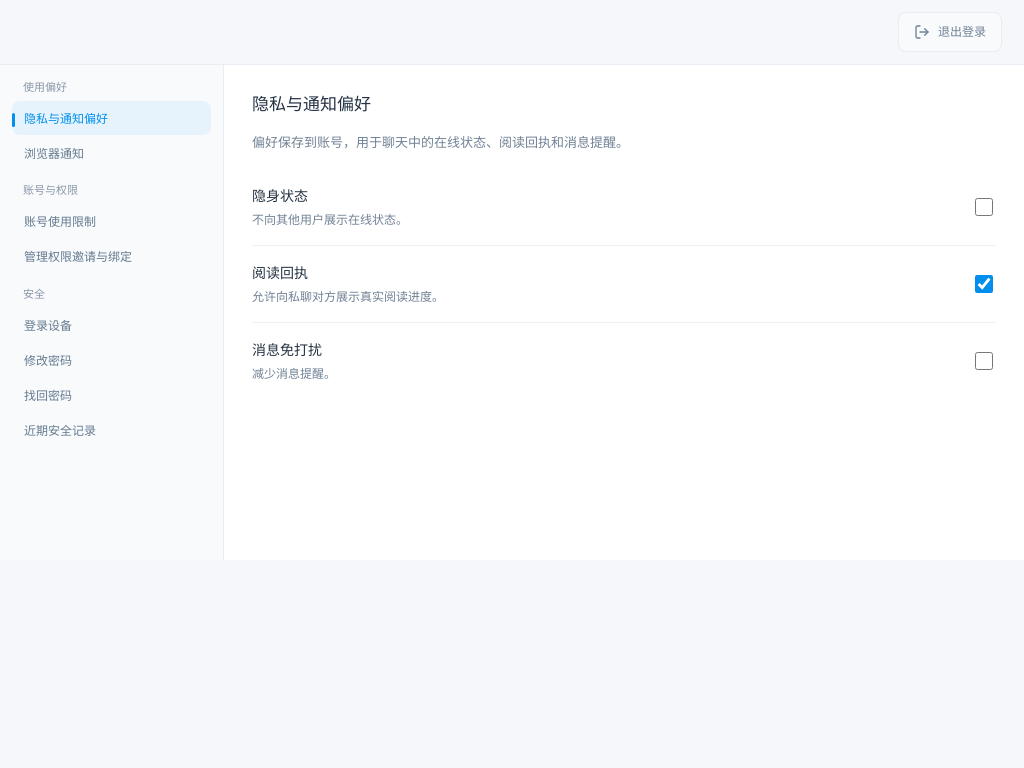
Test: settings grouped navigation › locks navigation until a real preference request finishes and preserves its server result
Step 1. Click the checkbox labelled "隐身状态 不向其他用户展示在线状态。" → point(984, 207), box [975,198,993,216]
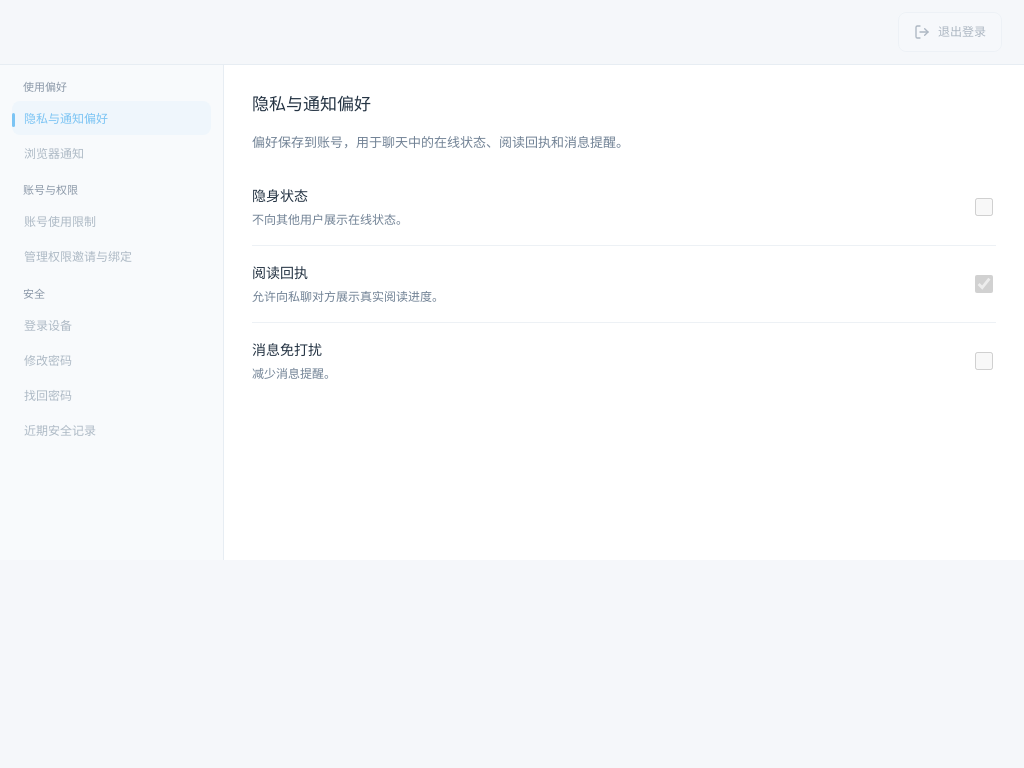
Now the tab "隐私与通知偏好" is disabled, box [12,101,211,135]
Now the tab "浏览器通知" is disabled, box [12,136,211,170]
Now the tab "账号使用限制" is disabled, box [12,205,211,239]
Step 2. Click the tab "修改密码" → point(112, 361), box [12,344,211,378]
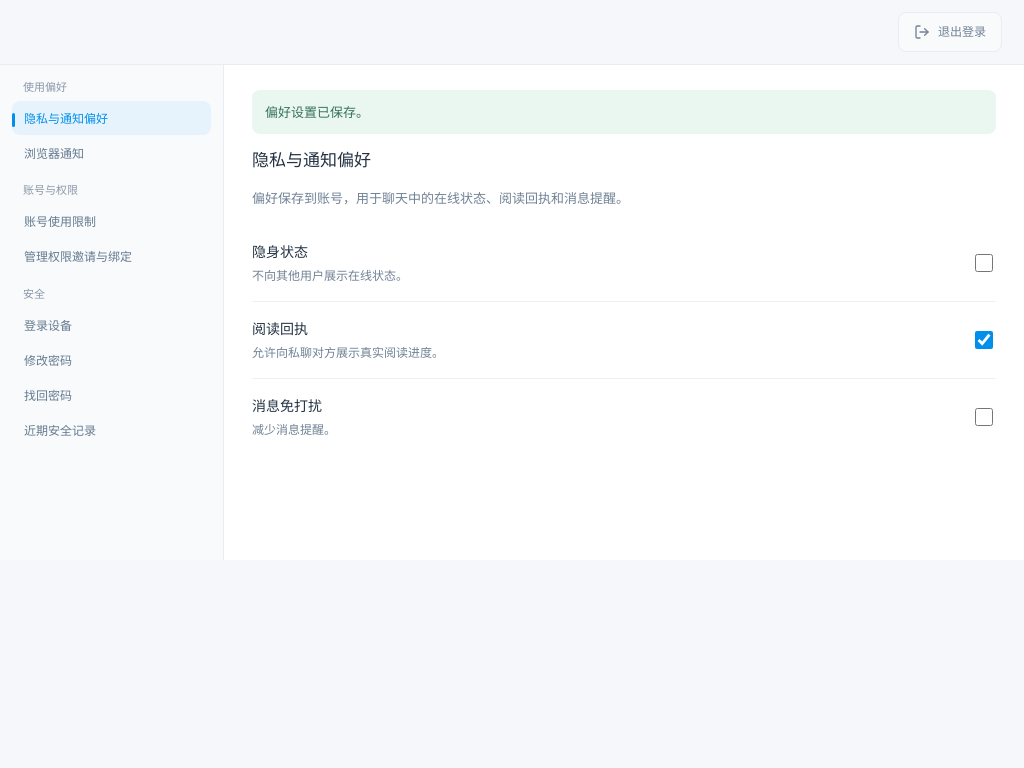
Now the tab "修改密码" is enabled, box [12,344,211,378]
